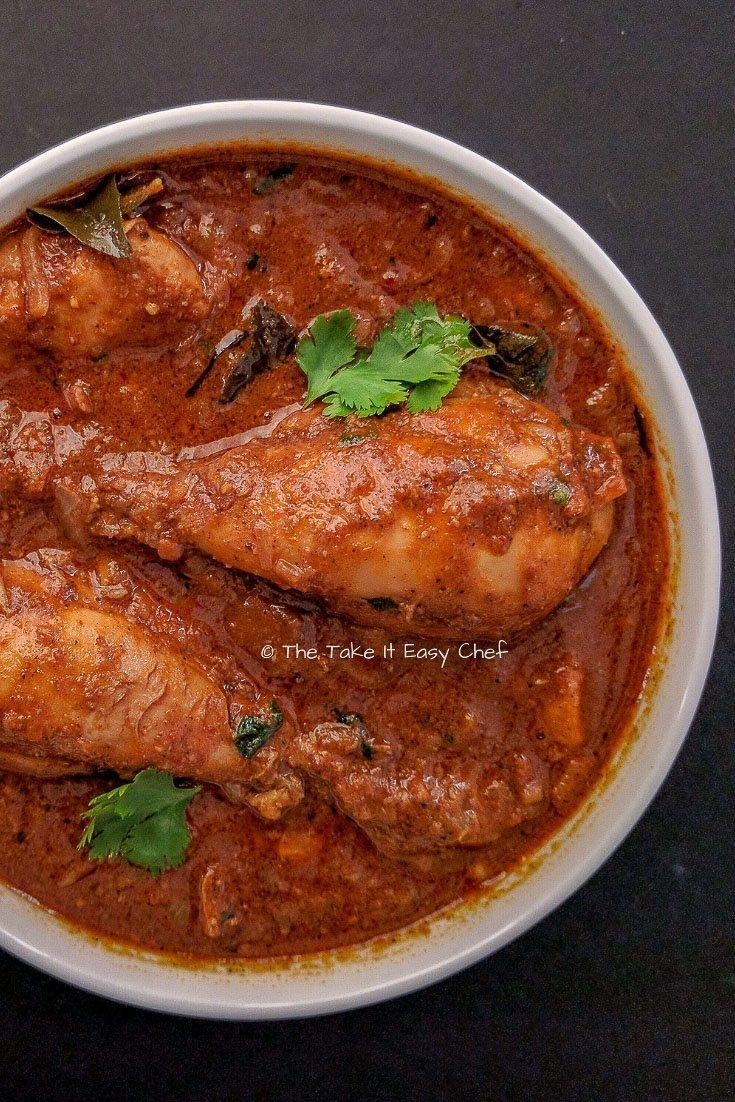chicken: (27, 162, 627, 993)
